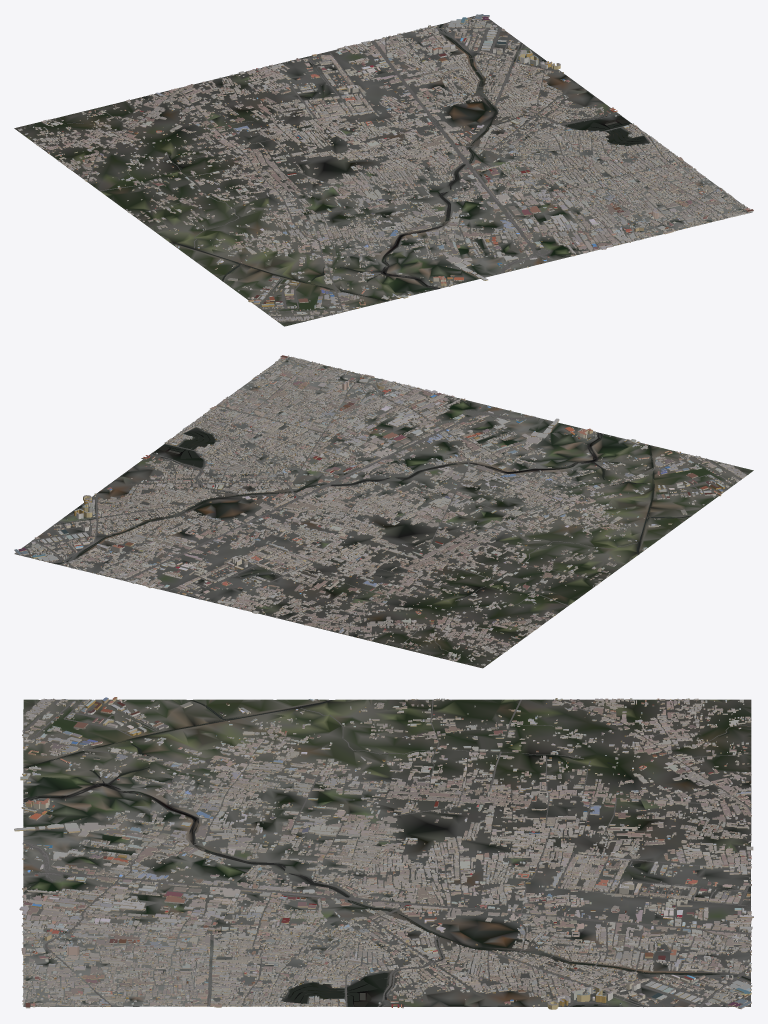
The picture shows the model from 3 angles, top to bottom: view 1: azimuth 30°, elevation 25°; view 2: azimuth 150°, elevation 25°; view 3: azimuth 270°, elevation 25°; orthographic projection. The views are drawn at different scales.
Parts seen in each view (by area): view 1: ground, buildings, roads, water; view 2: ground, buildings, roads, water; view 3: ground, buildings, roads, water.
Boxes of the visible parts, x1=… form: ground: x1=14, y1=14, x2=752, y2=326; buildings: x1=18, y1=14, x2=753, y2=321; roads: x1=55, y1=16, x2=727, y2=317; water: x1=67, y1=24, x2=645, y2=301; ground: x1=14, y1=357, x2=753, y2=668; buildings: x1=14, y1=355, x2=746, y2=666; roads: x1=22, y1=362, x2=741, y2=658; water: x1=54, y1=431, x2=690, y2=651; ground: x1=23, y1=699, x2=751, y2=1006; buildings: x1=14, y1=697, x2=753, y2=1009; roads: x1=22, y1=699, x2=751, y2=1007; water: x1=23, y1=700, x2=750, y2=1006.
Size of the model in its own units: 5665 by 77.53 by 5696.
